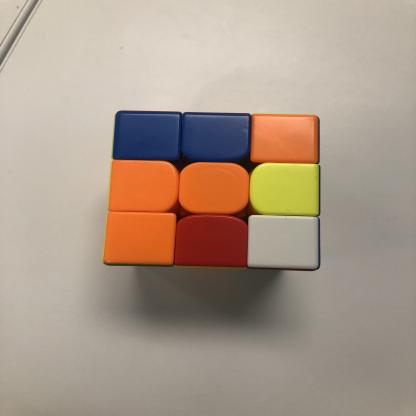UnsolvedCube: (107, 108, 319, 266)
